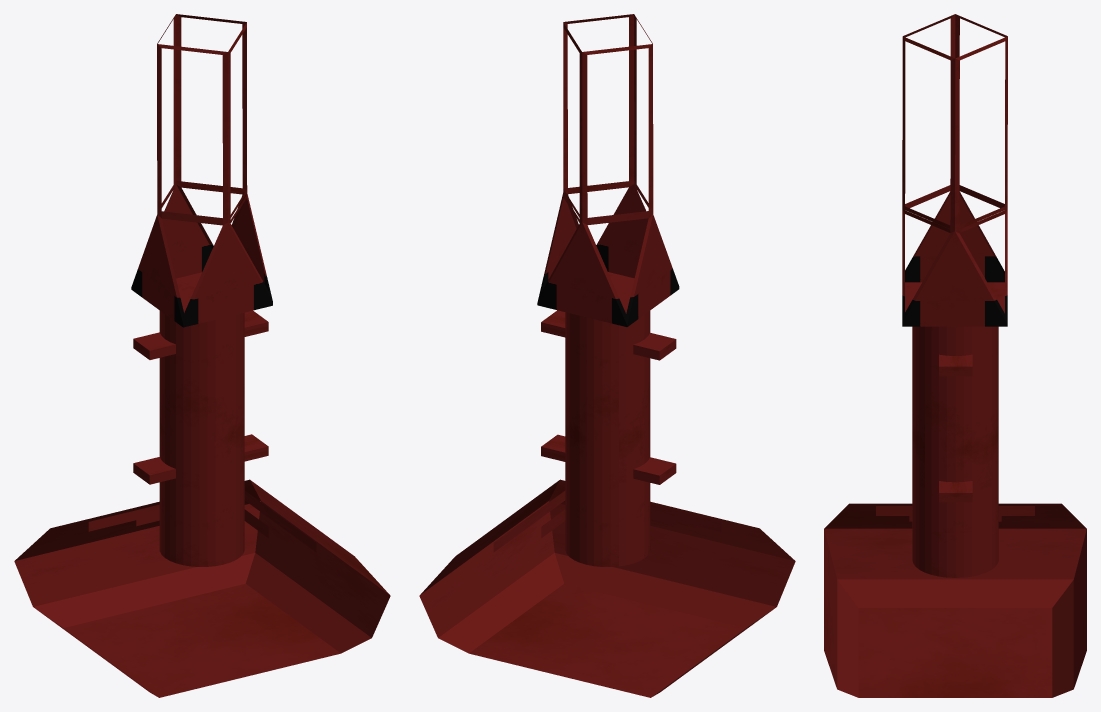
The model's file is Boya.glb.
3 renders of one model, left to right at view 1: azimuth 30°, elevation 25°; view 2: azimuth 150°, elevation 25°; view 3: azimuth 270°, elevation 25°, orthographic.
Parts seen in each view (by area): view 1: Cube.003; view 2: Cube.003; view 3: Cube.003.
Part boxes in pixels (x1,y1,x2,y2): Cube.003: (14,14,390,697); Cube.003: (419,14,795,697); Cube.003: (824,14,1086,697).
Bounding box in the file's own units: 1.6 × 3.77 × 1.46.
Materials: 1 (1 with a texture image).
